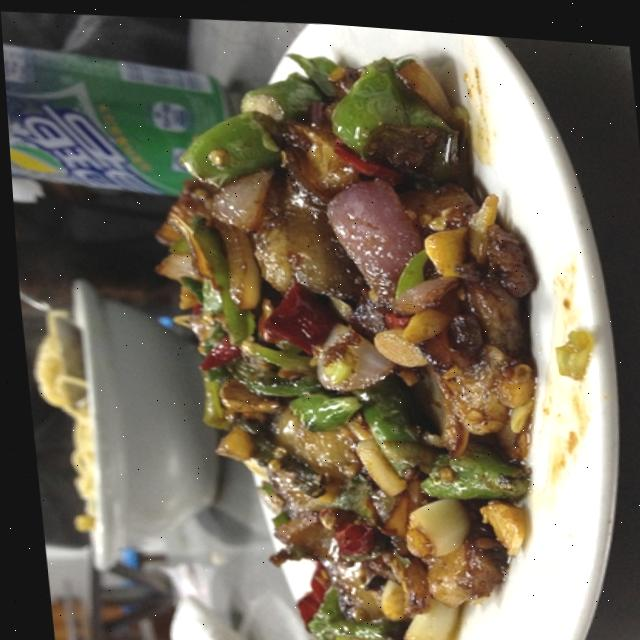猪肉菜式: (102, 17, 620, 640)
